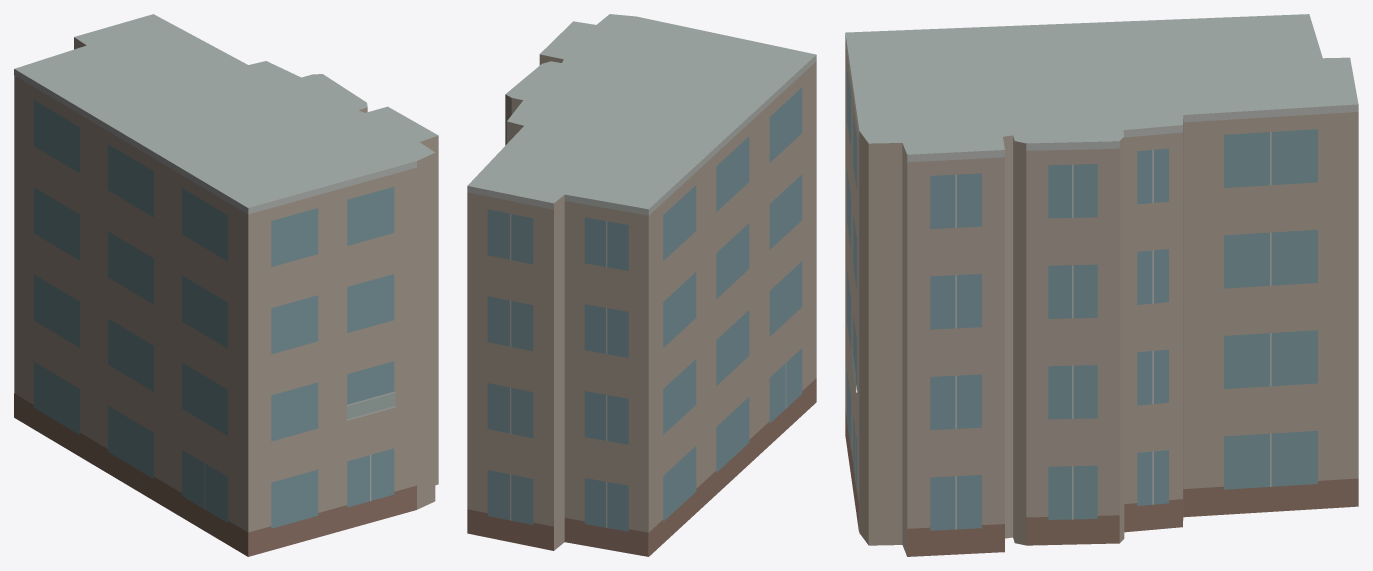
The model's file is survey-upis-32464440.glb.
3 views of the same model, side by side, from view 1: azimuth 30°, elevation 25°; view 2: azimuth 150°, elevation 25°; view 3: azimuth 270°, elevation 25° (orthographic). The views are drawn at different scales.
Visible parts, largest first — view 1: survey-upis-32464440.tmp; view 2: survey-upis-32464440.tmp; view 3: survey-upis-32464440.tmp.
Part boxes in pixels (bbox=[...]): survey-upis-32464440.tmp: bbox=[14, 14, 438, 556]; survey-upis-32464440.tmp: bbox=[467, 14, 816, 556]; survey-upis-32464440.tmp: bbox=[845, 14, 1358, 556].
Size of the model in its own units: 9.92 by 13.2 by 15.28.
